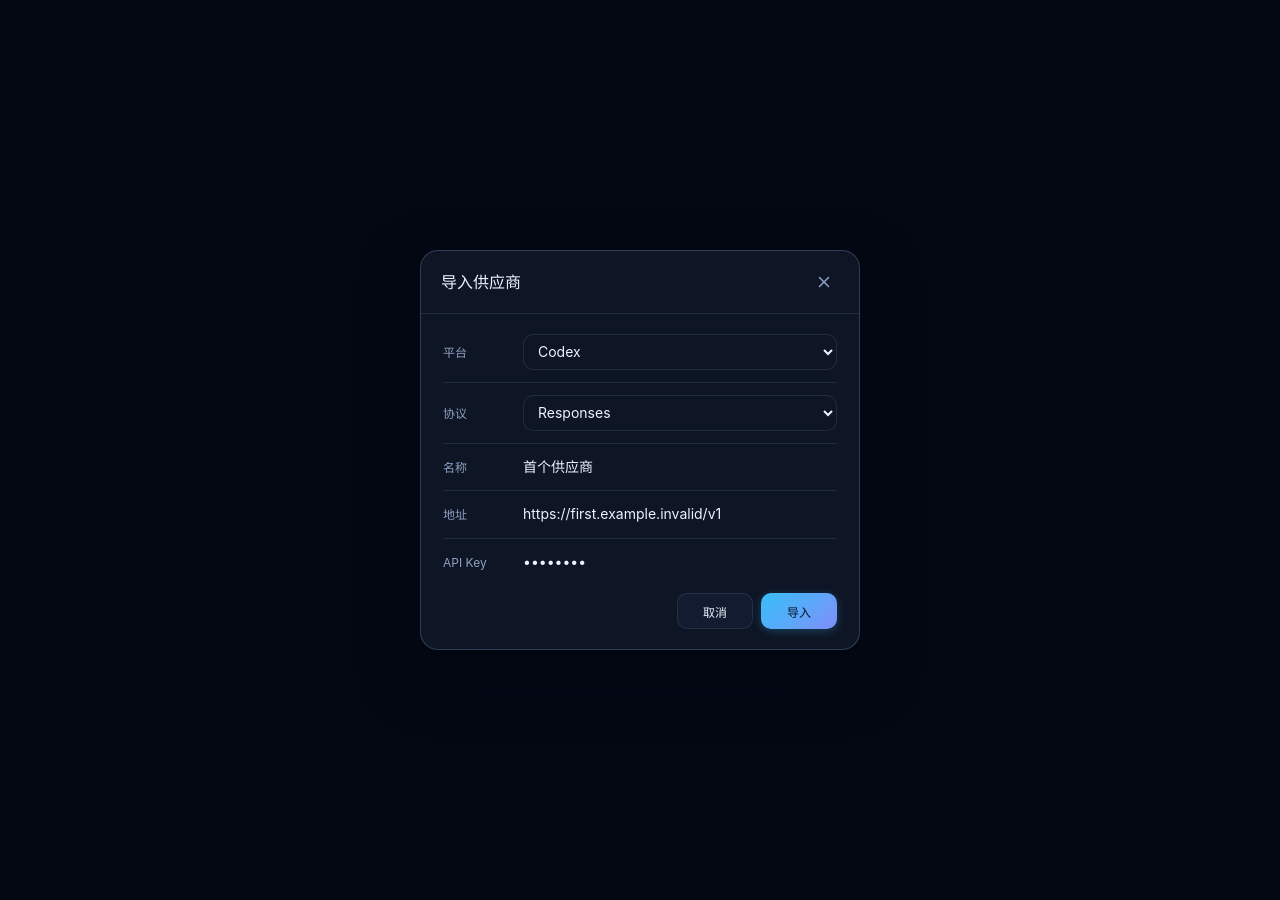
Test: keeps the queued preview after a save conflict and retries with the refreshed revision
Check: the text "首个供应商" is shown, box [523, 458, 593, 475]
What coordinates should you click on to do the following:
click the button "导入"
I would click on:
 (799, 611)
Its box is [761, 593, 837, 629].
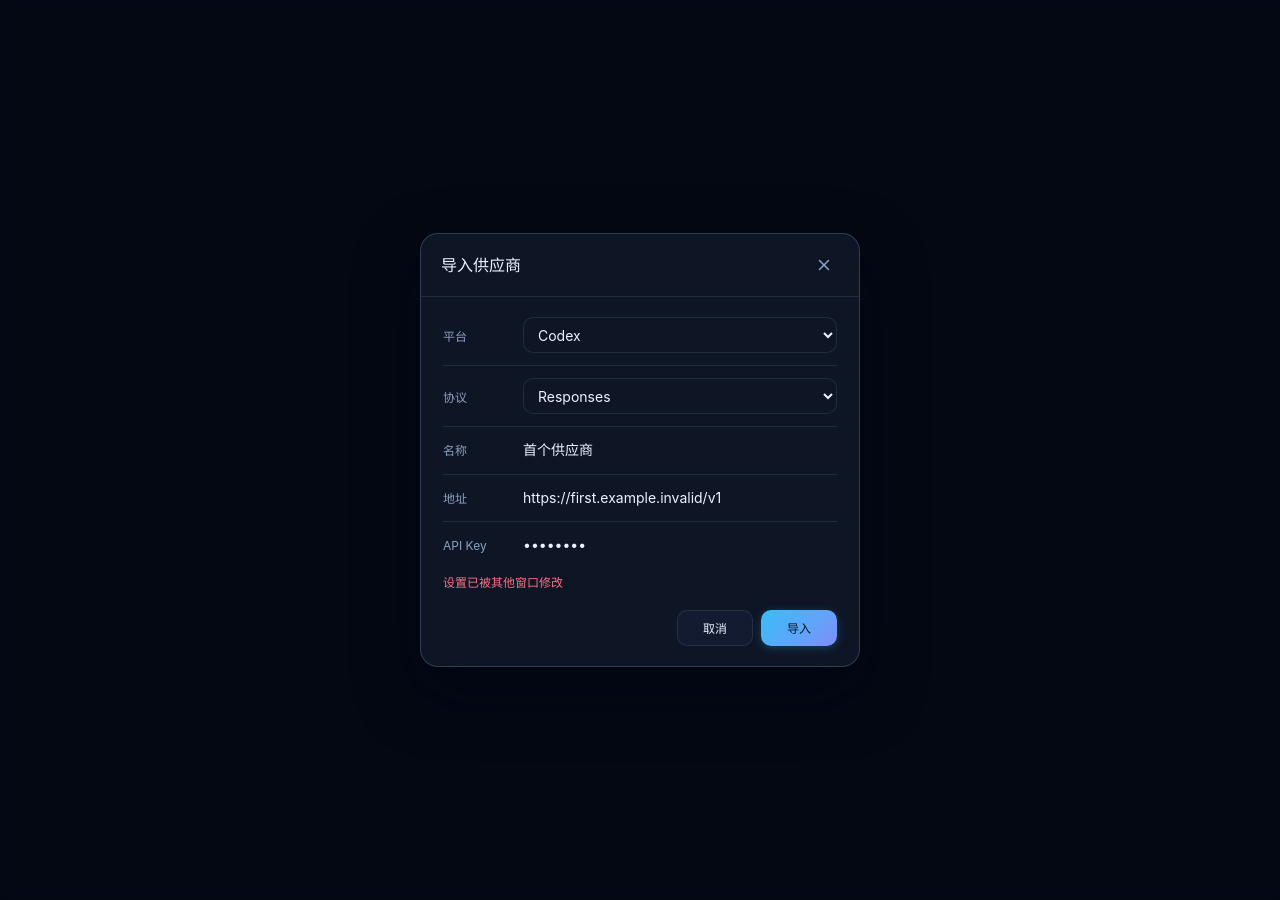
Check: the text "首个供应商" is shown, box [523, 441, 593, 458]
Check: the message reads "设置已被其他窗口修改", box [443, 575, 563, 590]
What coordinates should you click on to do the following:
click the button "导入"
I would click on:
 (799, 628)
Its box is [761, 610, 837, 646].
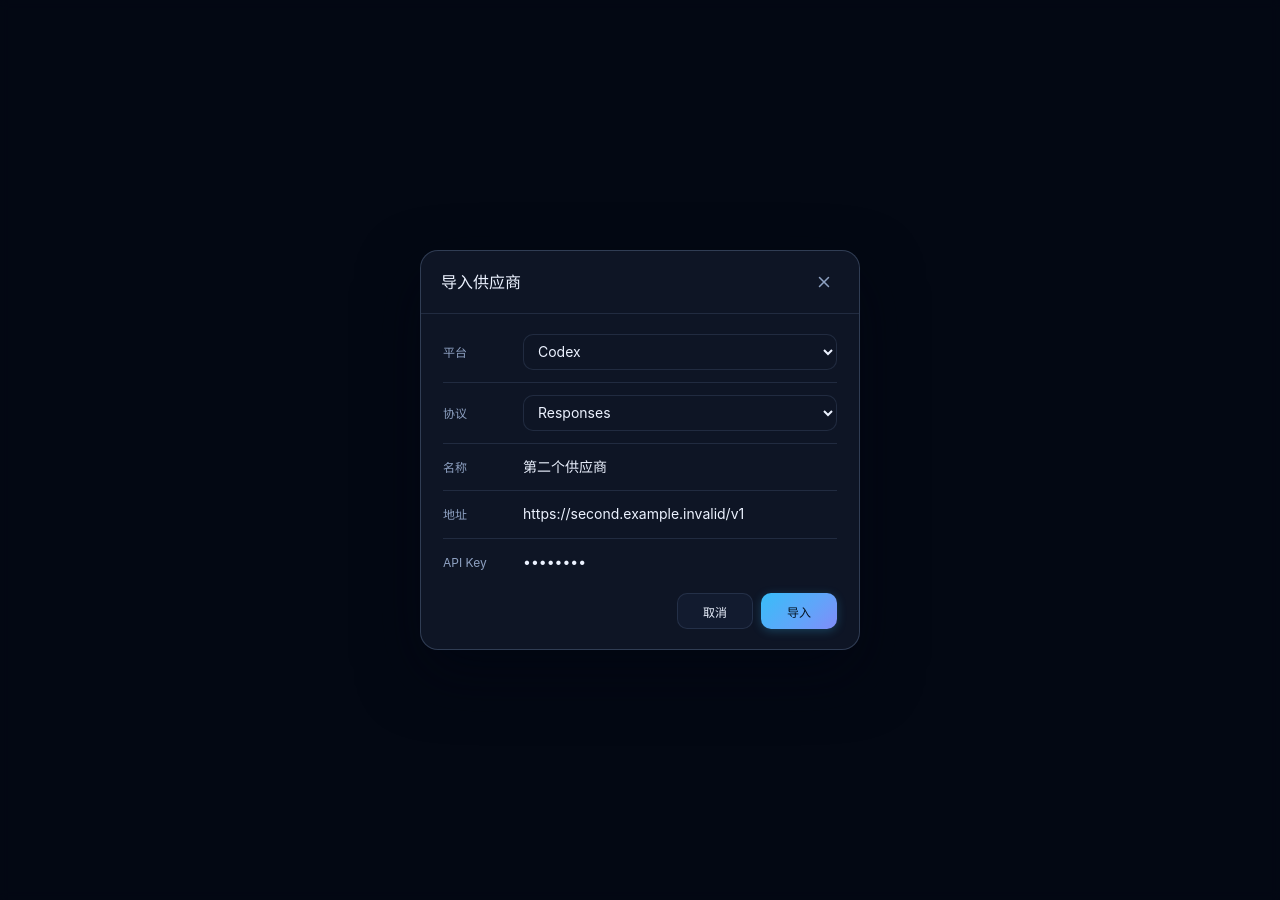
Check: the text "第二个供应商" is shown, box [523, 458, 607, 475]
